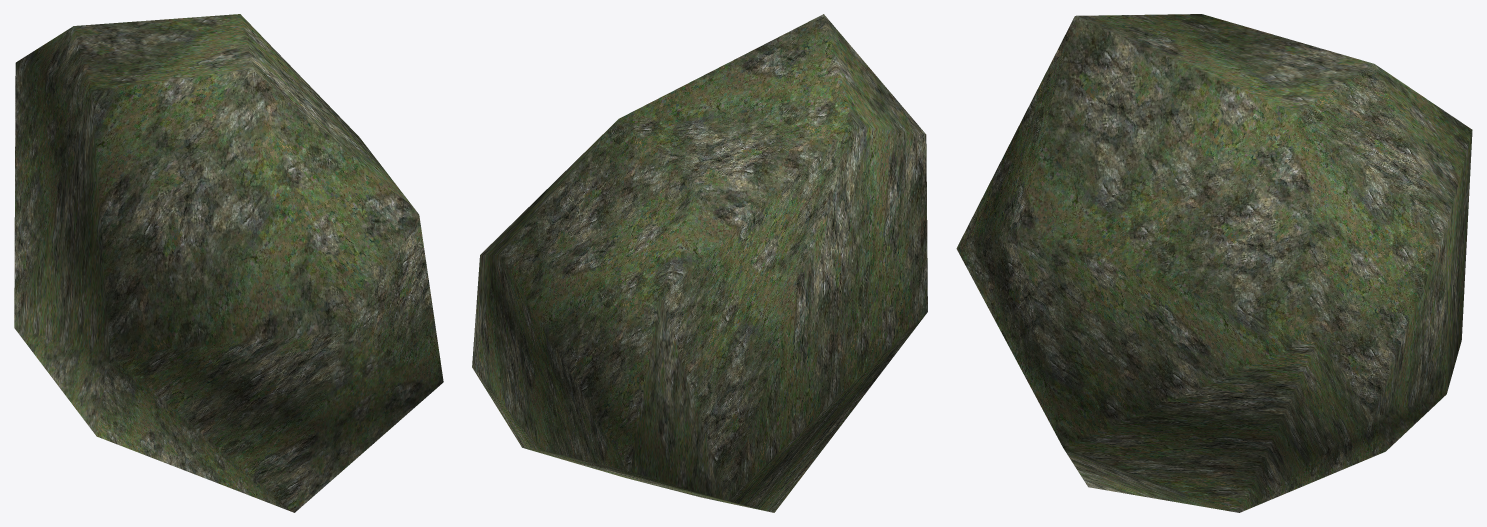
File: mtns_rock_moss_a3_l2.fbx
The picture shows the model from 3 angles, left to right: view 1: azimuth 30°, elevation 25°; view 2: azimuth 150°, elevation 25°; view 3: azimuth 270°, elevation 25°; orthographic projection. The views are drawn at different scales.
Visible parts, largest first — view 1: mesh_node; view 2: mesh_node; view 3: mesh_node.
Part boxes in pixels (bbox=[...]): mesh_node: bbox=[14, 14, 443, 512]; mesh_node: bbox=[472, 14, 927, 512]; mesh_node: bbox=[956, 14, 1472, 512].
Size of the model in its own units: 1.43 by 1.78 by 1.83.
